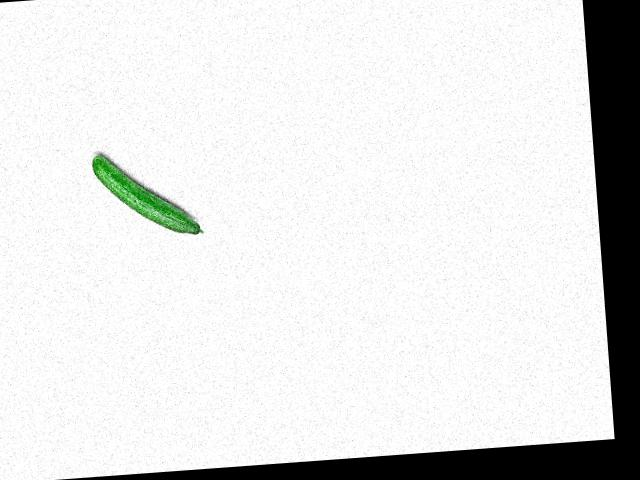cucumber: (92, 147, 205, 241)
